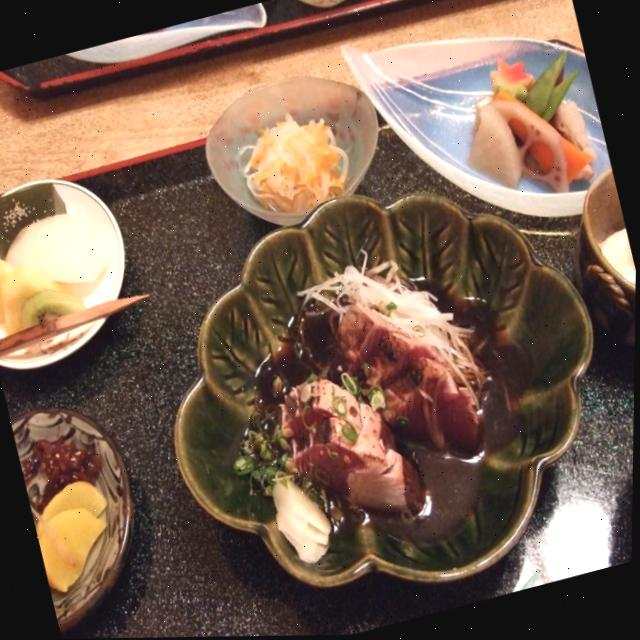熟制海鲜: (159, 197, 562, 563)
